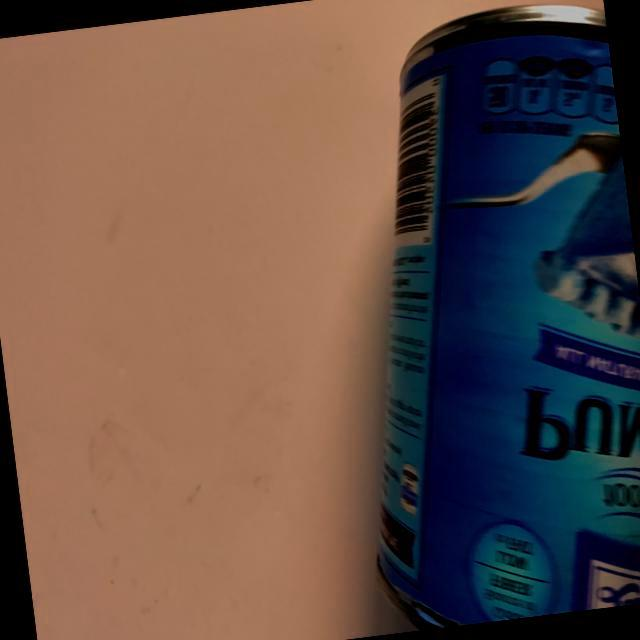metal: (296, 0, 640, 636)
